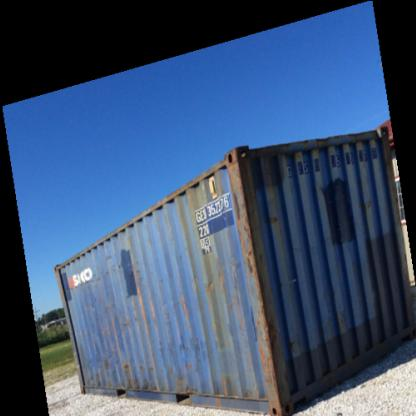Damage: (224, 157, 256, 281), (248, 286, 280, 394), (63, 257, 134, 290), (107, 355, 170, 373), (176, 334, 206, 370), (108, 306, 146, 332), (192, 272, 219, 298), (216, 371, 236, 399), (265, 204, 287, 226), (81, 366, 103, 388), (174, 380, 196, 396), (131, 380, 164, 390)
